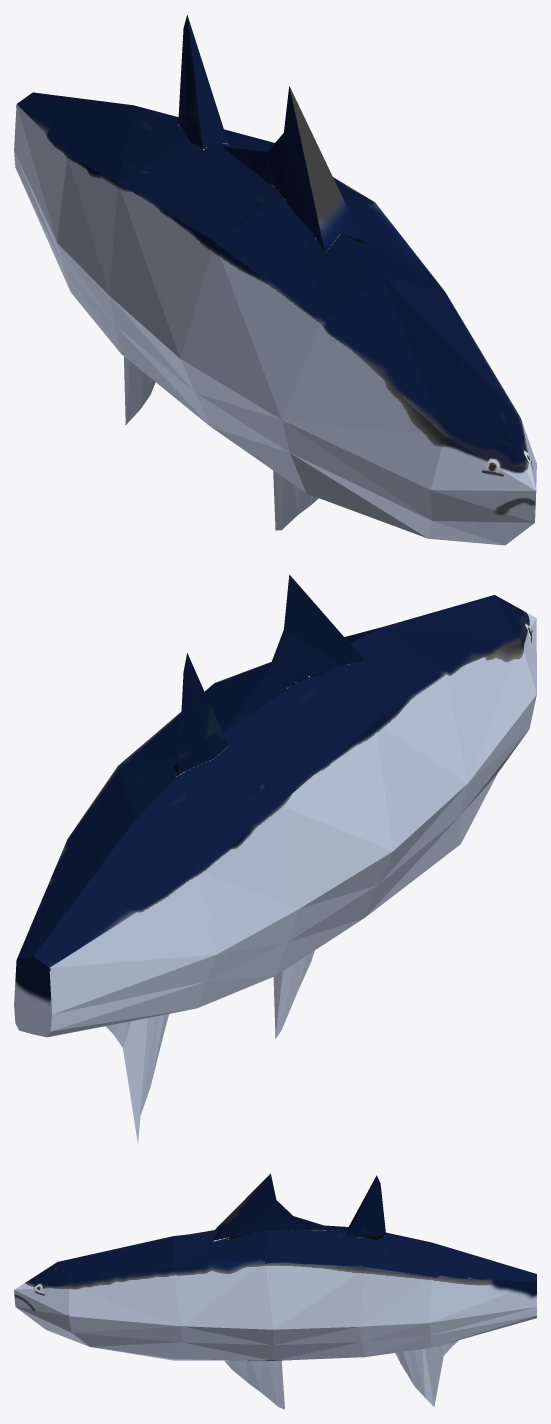
Rendered from Enemy.obj.
The picture shows the model from 3 angles, top to bottom: view 1: azimuth 30°, elevation 25°; view 2: azimuth 150°, elevation 25°; view 3: azimuth 270°, elevation 25°; orthographic projection. The views are drawn at different scales.
Parts seen in each view (by area): view 1: 立方体.005_立方体.006; view 2: 立方体.005_立方体.006; view 3: 立方体.005_立方体.006.
Boxes of the visible parts, x1,y1,x2,y2 form: 立方体.005_立方体.006: (14, 15, 536, 545); 立方体.005_立方体.006: (14, 574, 536, 1142); 立方体.005_立方体.006: (14, 1173, 536, 1409).
Bounding box in the file's own units: 4.96 × 10.14 × 20.33.
Materials: 1 (1 with a texture image).
